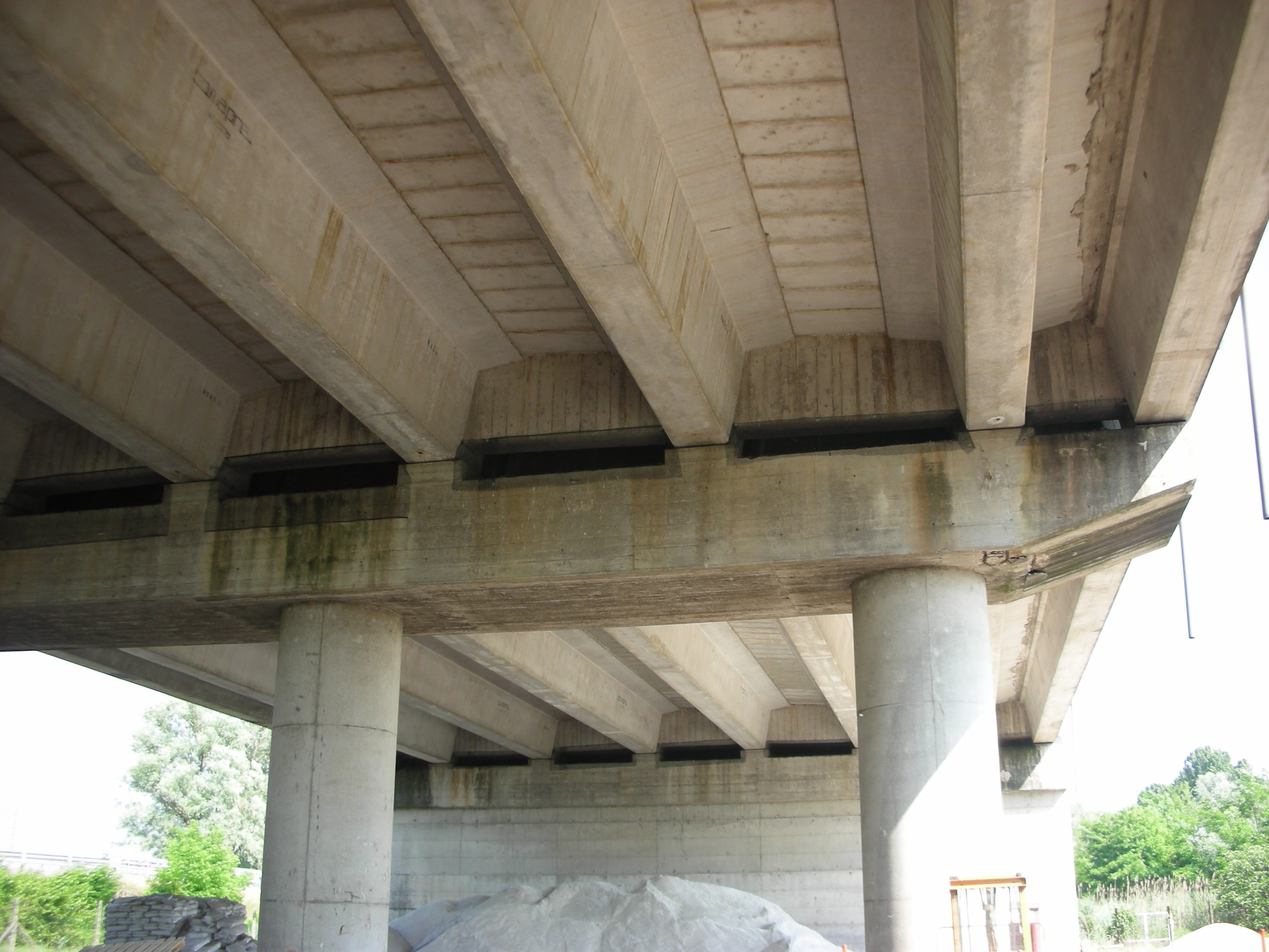Corrosion/Exposed rebar: (983, 547, 1046, 572)
Spalling: (980, 546, 1050, 576)
